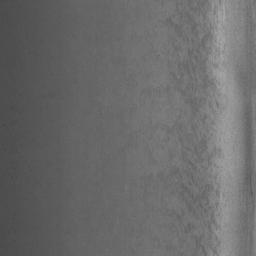Silk spot: (171, 114, 221, 256), (170, 0, 218, 97), (175, 83, 219, 117), (164, 15, 194, 44), (162, 120, 185, 143), (166, 209, 184, 221), (142, 87, 160, 97), (168, 39, 181, 51), (167, 168, 182, 178), (183, 223, 195, 233)
